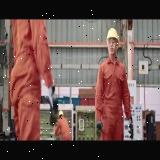Helmet: (106, 28, 120, 49), (59, 110, 64, 117)
